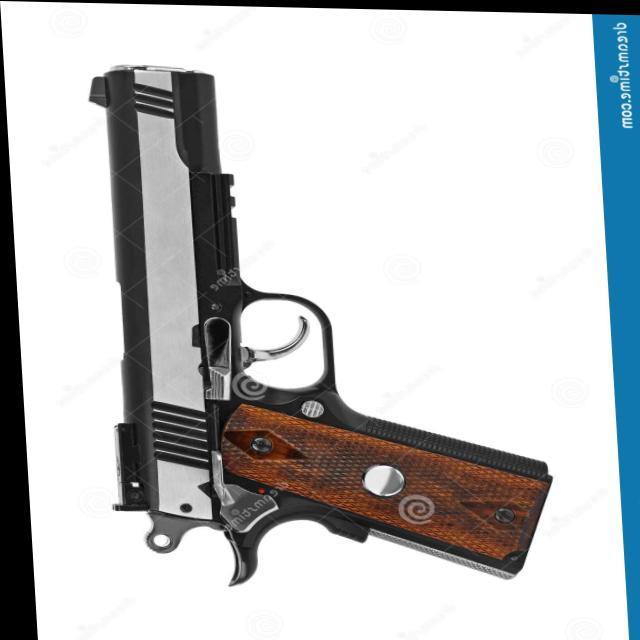handgun: (81, 63, 556, 593)
